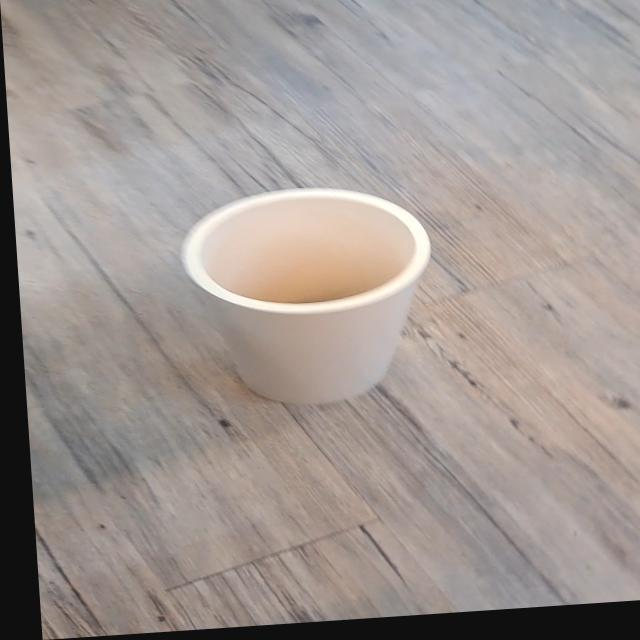CORAL: (143, 148, 483, 430)
